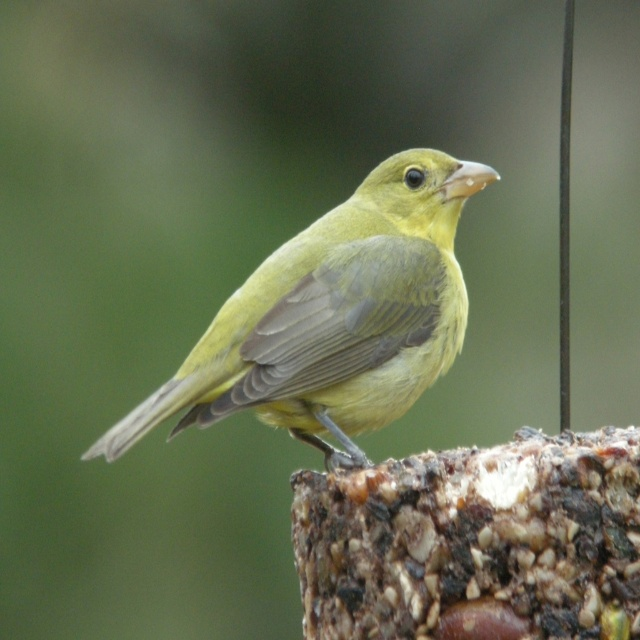Canary: (81, 149, 501, 473)
